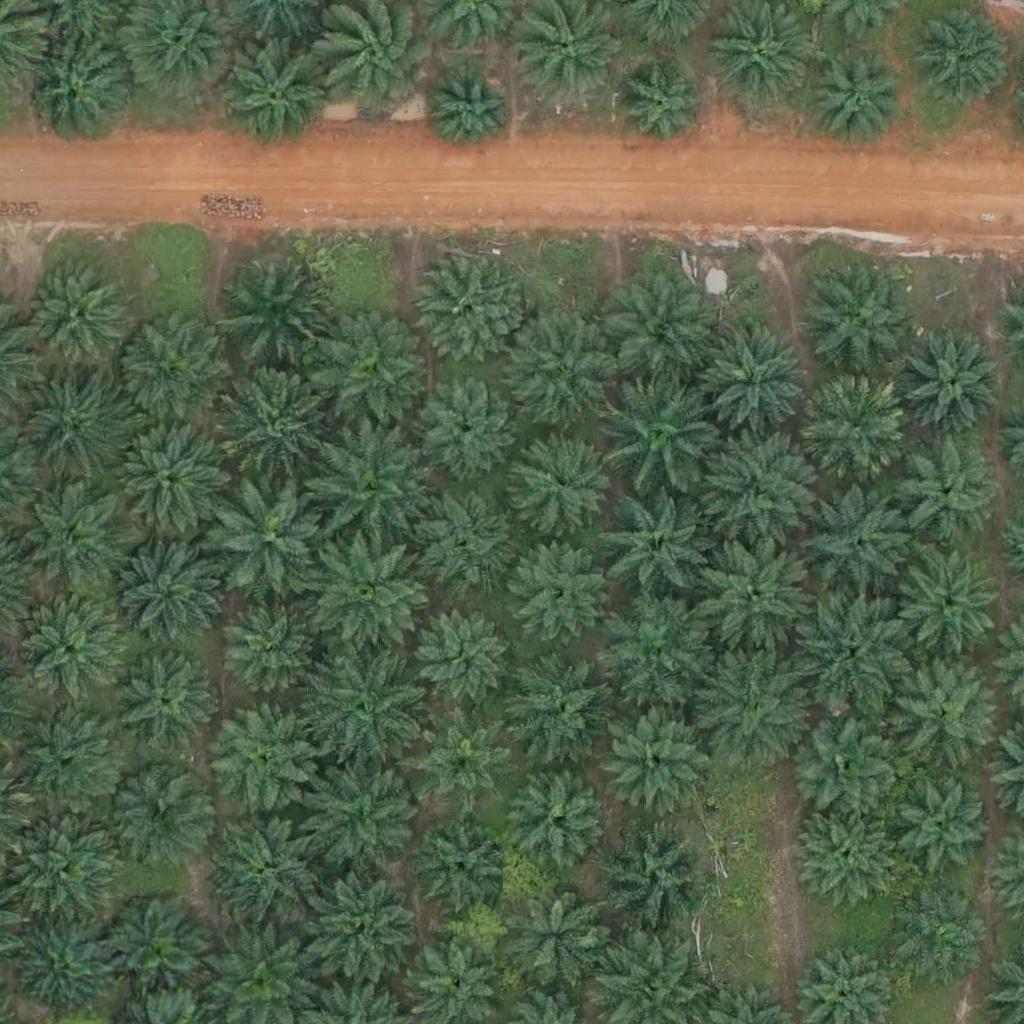Kelapa_Sawit: (802, 260, 915, 374), (700, 324, 813, 438), (700, 533, 813, 647), (599, 593, 712, 707), (316, 534, 429, 648), (213, 478, 326, 592), (21, 483, 134, 597), (885, 651, 998, 764), (794, 588, 907, 701), (798, 374, 911, 487), (696, 438, 809, 551), (693, 652, 806, 765), (606, 375, 719, 488), (504, 649, 617, 762), (413, 256, 526, 369), (311, 317, 424, 430), (210, 809, 323, 922), (202, 698, 315, 811), (114, 313, 227, 426), (115, 417, 228, 530), (108, 649, 221, 762), (103, 757, 216, 870), (100, 891, 213, 1004), (1, 815, 114, 928), (12, 372, 125, 485), (216, 40, 329, 153), (887, 440, 999, 554), (801, 484, 913, 598), (510, 313, 622, 427), (311, 763, 423, 877), (19, 591, 131, 705), (606, 713, 718, 826), (600, 488, 712, 601), (604, 276, 716, 389), (594, 816, 706, 929), (404, 484, 516, 597), (314, 432, 426, 545), (310, 652, 422, 765), (307, 869, 419, 982), (223, 253, 335, 366), (216, 364, 328, 477), (109, 542, 221, 655), (12, 703, 124, 816), (19, 34, 131, 147), (900, 336, 1000, 437), (898, 556, 998, 657), (890, 885, 990, 986), (795, 713, 895, 814), (512, 429, 612, 530), (512, 775, 612, 876), (508, 886, 608, 987), (415, 810, 515, 911), (409, 602, 509, 703), (414, 370, 514, 471), (22, 266, 122, 367), (913, 9, 1013, 110), (807, 53, 907, 154), (891, 776, 991, 876), (799, 804, 899, 904), (511, 540, 611, 640), (414, 709, 514, 809), (218, 598, 318, 698), (619, 67, 707, 155), (426, 67, 513, 155)
